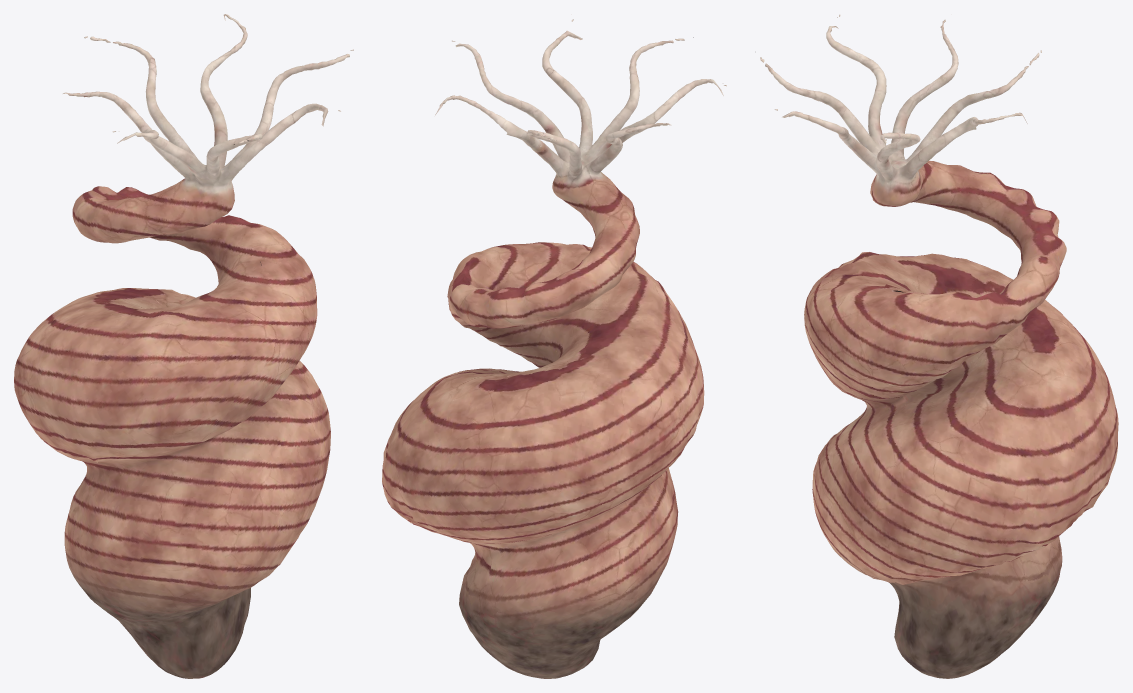
The model's file is boss-drill.glb.
The picture shows the model from 3 angles, left to right: view 1: azimuth 30°, elevation 25°; view 2: azimuth 150°, elevation 25°; view 3: azimuth 270°, elevation 25°; orthographic projection. The views are drawn at different scales.
Visible parts, largest first — view 1: attack-membrane; view 2: attack-membrane; view 3: attack-membrane.
Part boxes in pixels (left/top/right/bottom): attack-membrane: left=14, top=14, right=353, bottom=678; attack-membrane: left=382, top=19, right=726, bottom=678; attack-membrane: left=760, top=14, right=1118, bottom=678.
Bounding box in the file's own units: 1.02 × 2.05 × 1.13.
1 material, 1 textured.
